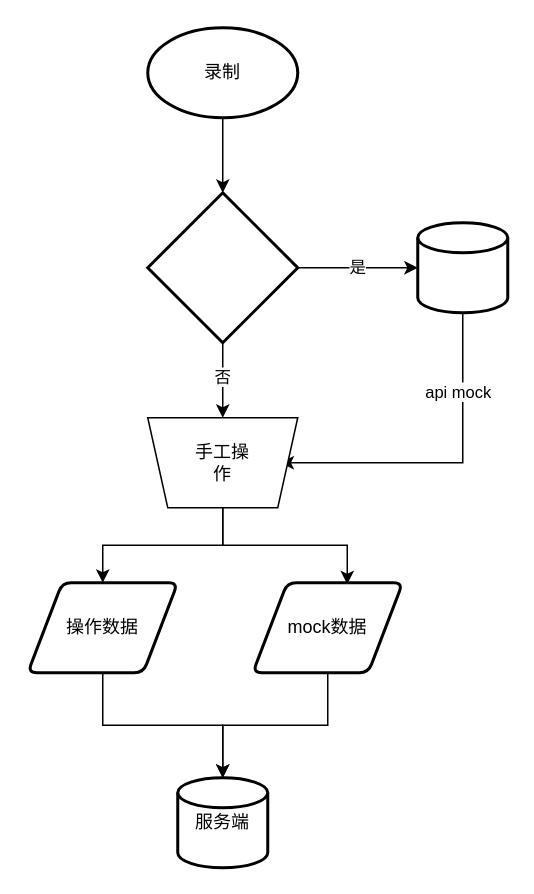
Some shapes in this 534 by 894 pixel diagram are drawn without their labels. Each missing label, with the box of its shape:
mock配置: (416, 220, 508, 314)
是否mock: (146, 190, 298, 344)
